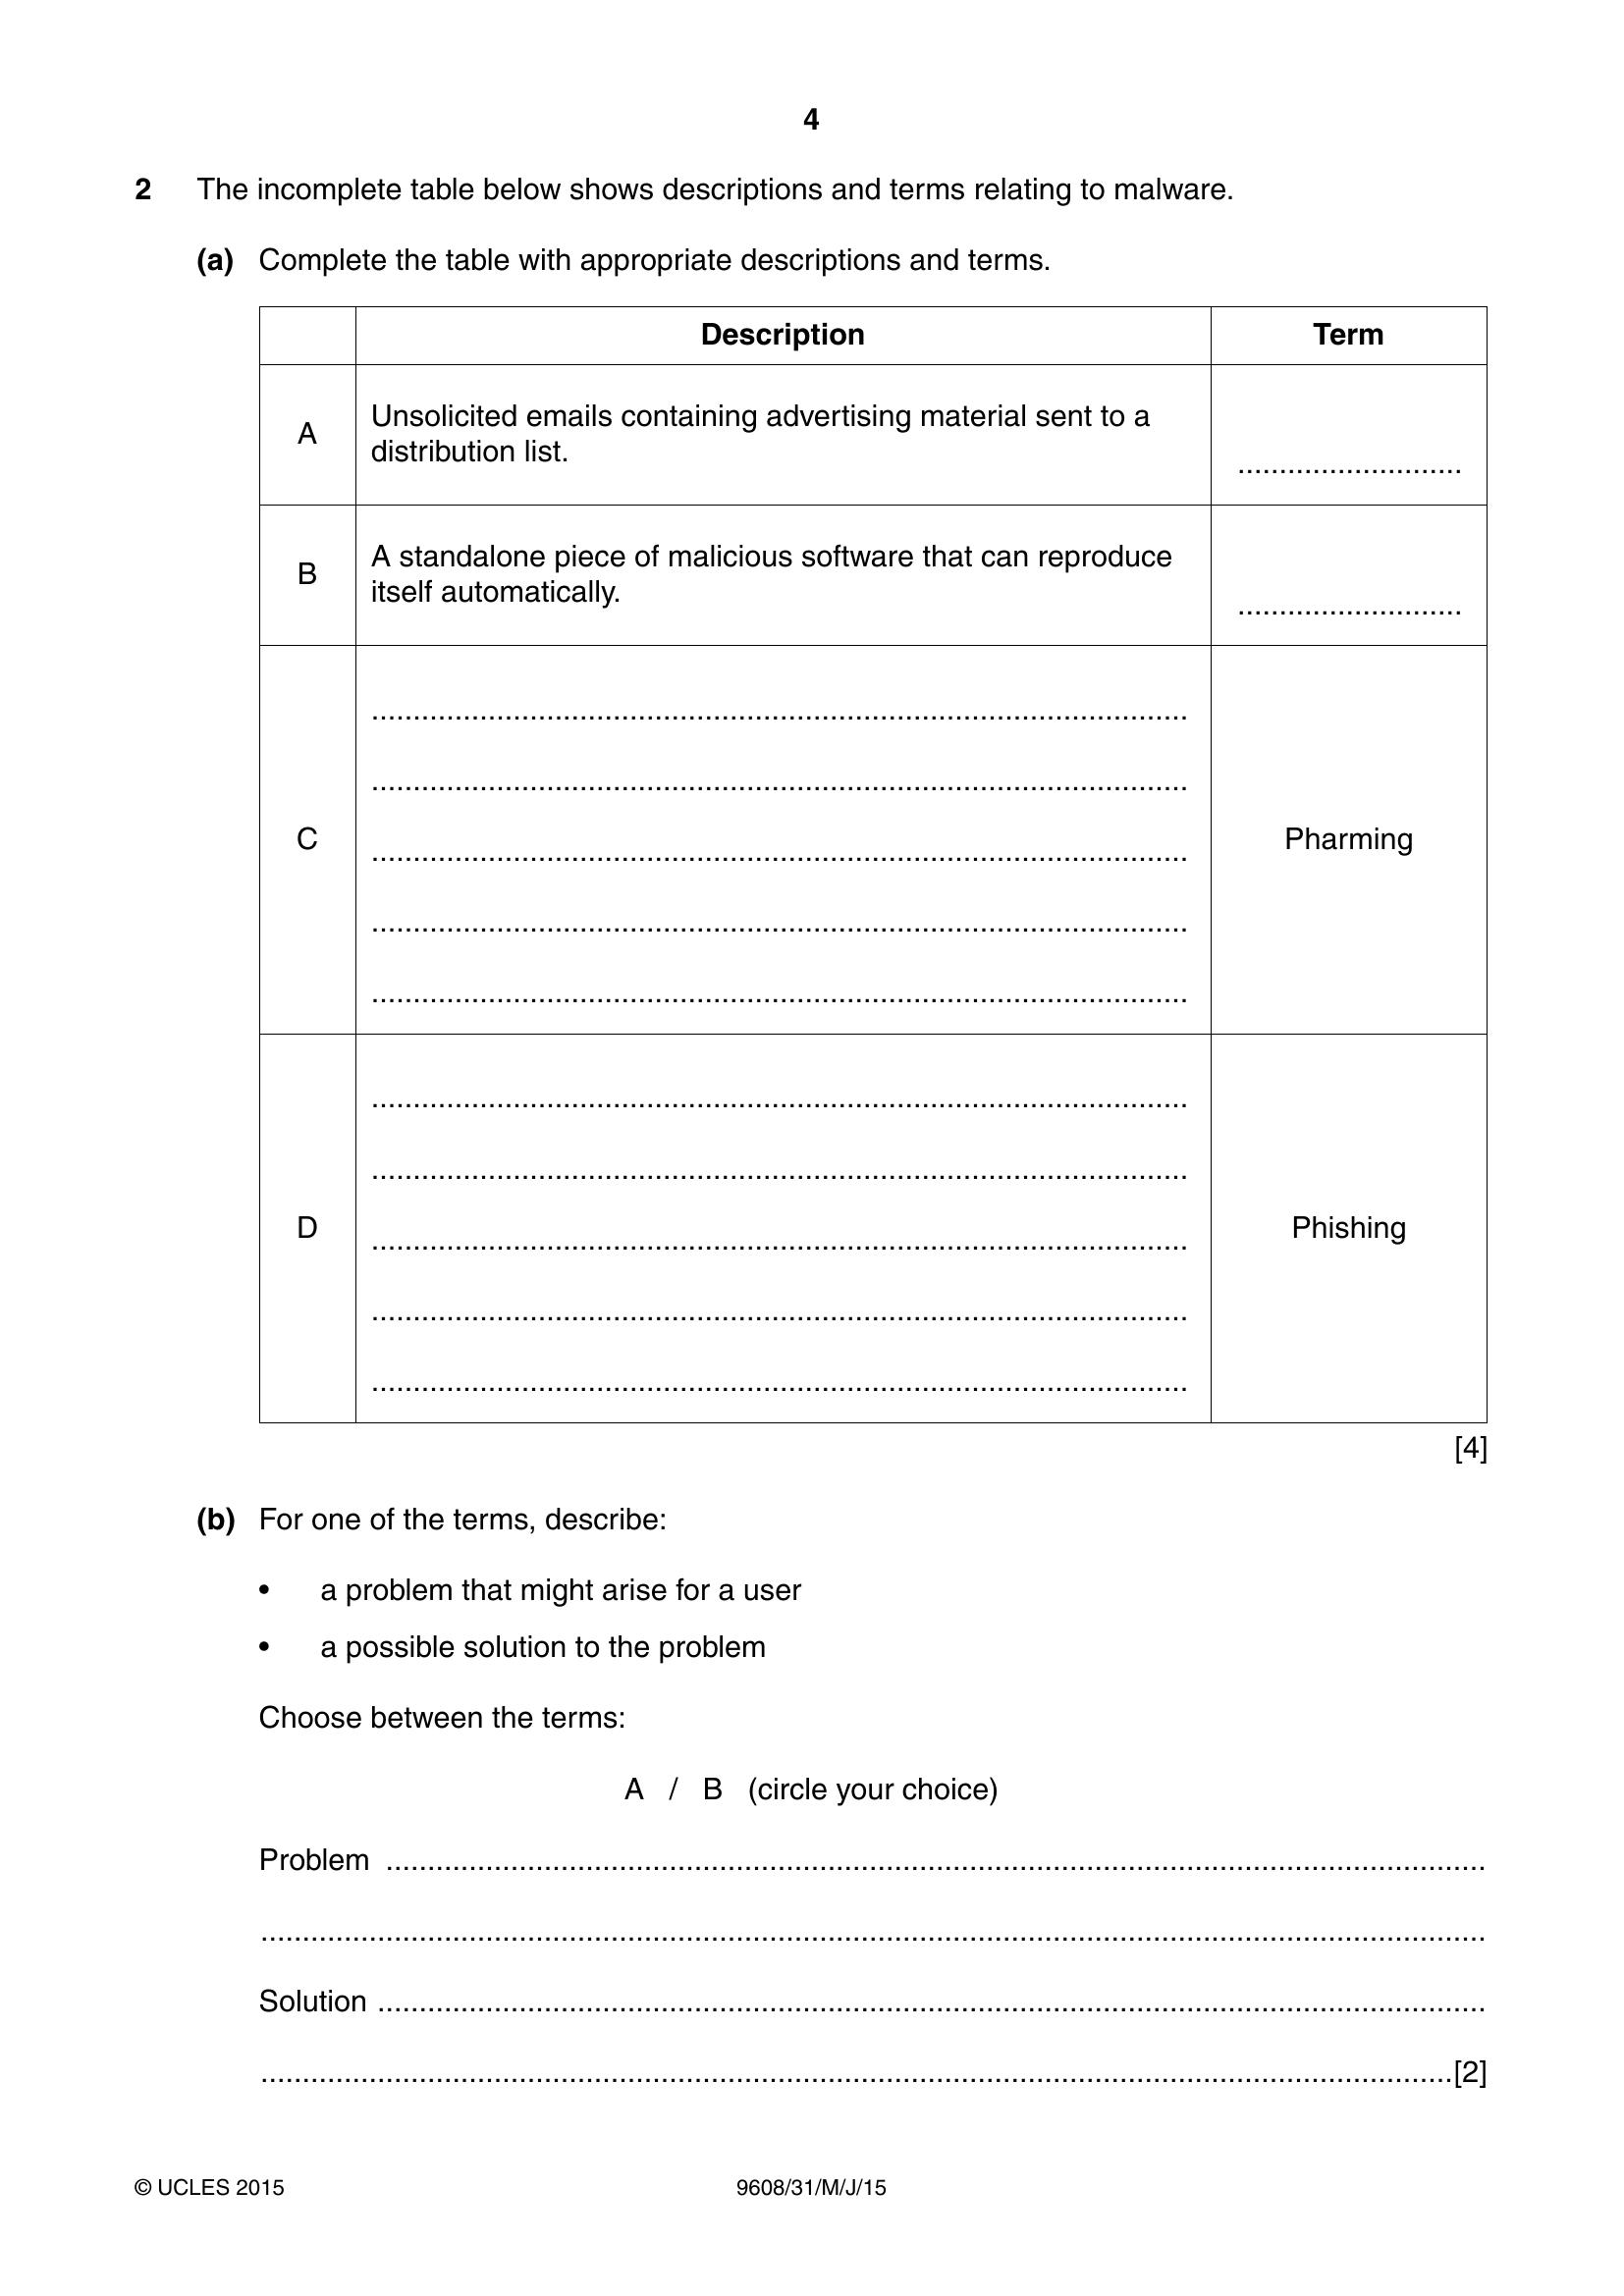question: (2, 163, 1624, 2131)
